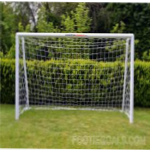goals: (12, 29, 137, 125)
